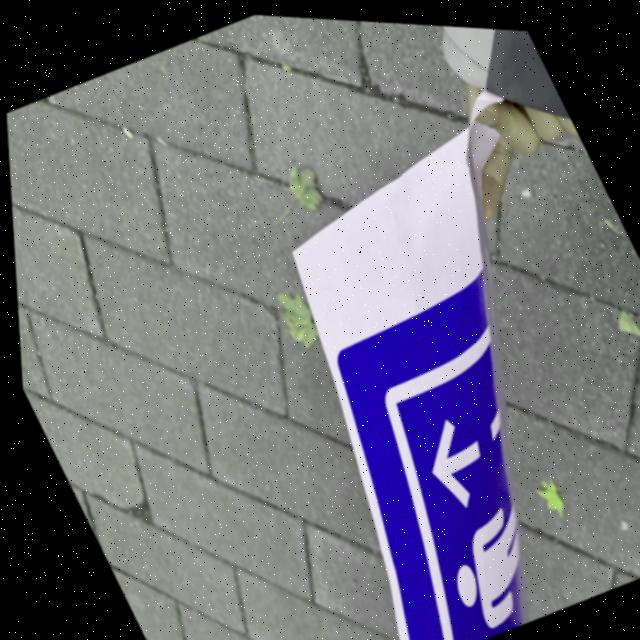elevator: (340, 272, 534, 640)
